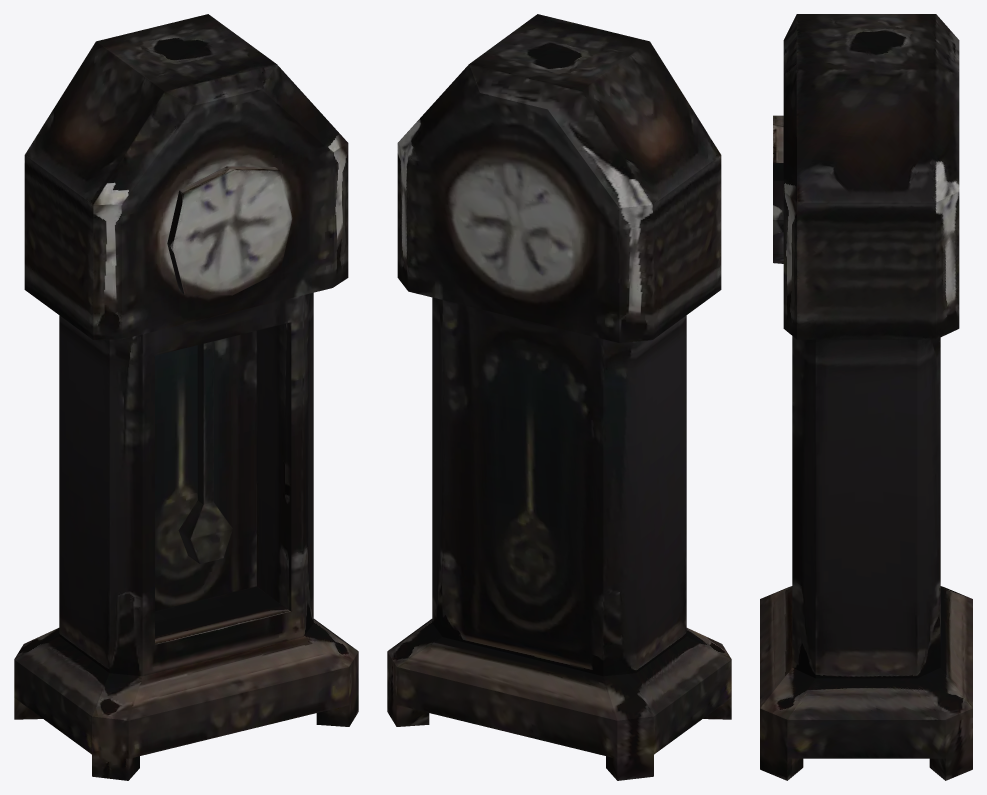
File: OClock.fbx
3 renders of one model, left to right at view 1: azimuth 30°, elevation 25°; view 2: azimuth 150°, elevation 25°; view 3: azimuth 270°, elevation 25°, orthographic.
Visible parts, largest first — view 1: OClock; view 2: OClock; view 3: OClock.
Boxes of the visible parts, box(x1,y1,x2,y2) form: OClock: box(14, 14, 358, 780); OClock: box(387, 14, 731, 780); OClock: box(760, 14, 972, 780).
Bounding box in the file's own units: 17.98 × 42.7 × 12.24.
